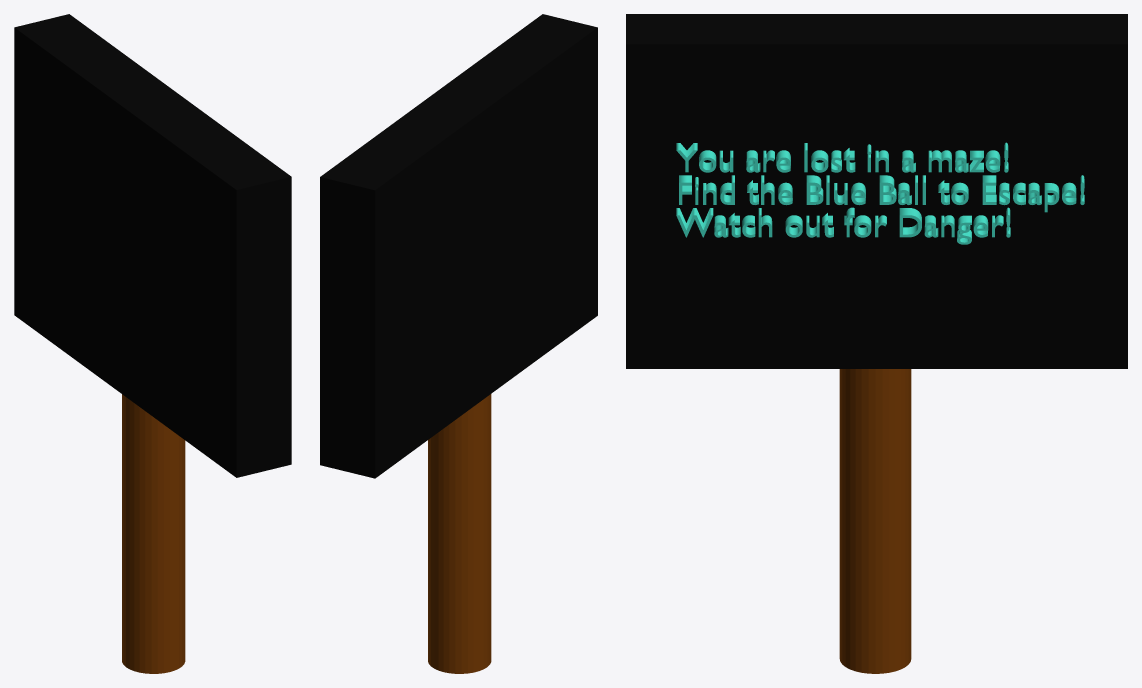
File: Sign.glb
The picture shows the model from 3 angles, left to right: view 1: azimuth 30°, elevation 25°; view 2: azimuth 150°, elevation 25°; view 3: azimuth 270°, elevation 25°; orthographic projection. The views are drawn at different scales.
Visible parts, largest first — view 1: Cube, Cylinder; view 2: Cube, Cylinder; view 3: Cube, Cylinder, Text.
Boxes of the visible parts, box(x1,y1,x2,y2) form: Cube: box(14, 14, 291, 477); Cylinder: box(122, 394, 185, 673); Cube: box(320, 14, 597, 478); Cylinder: box(428, 394, 491, 673); Cube: box(626, 14, 1127, 368); Cylinder: box(839, 369, 911, 673); Text: box(676, 142, 1084, 244).
Size of the model in its own units: 2.48 by 19.39 by 14.
